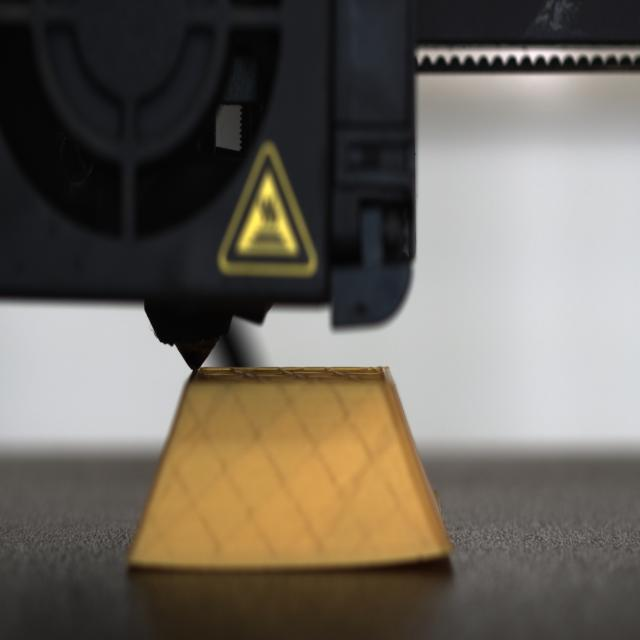Warping: (392, 543, 452, 576)
